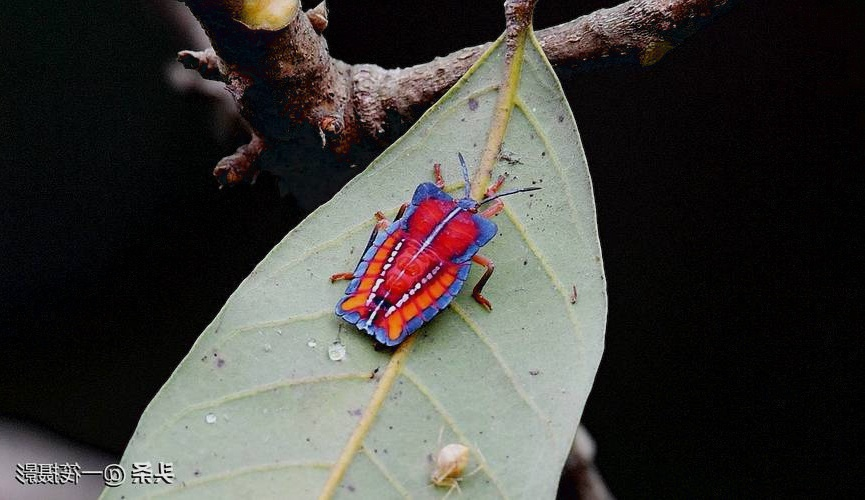Stink_Bug: (335, 186, 497, 347)
